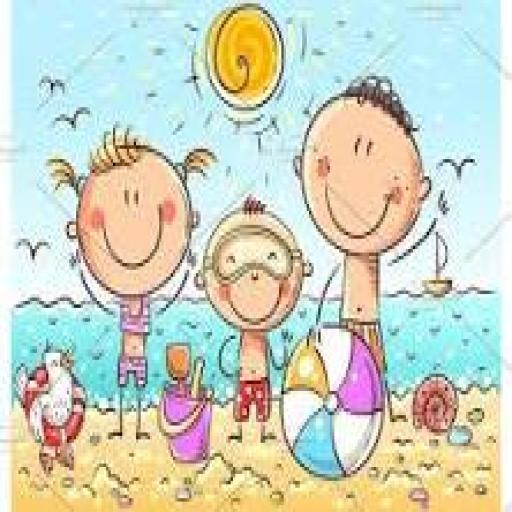person: (295, 69, 447, 448), (51, 113, 219, 454), (194, 186, 314, 448)
